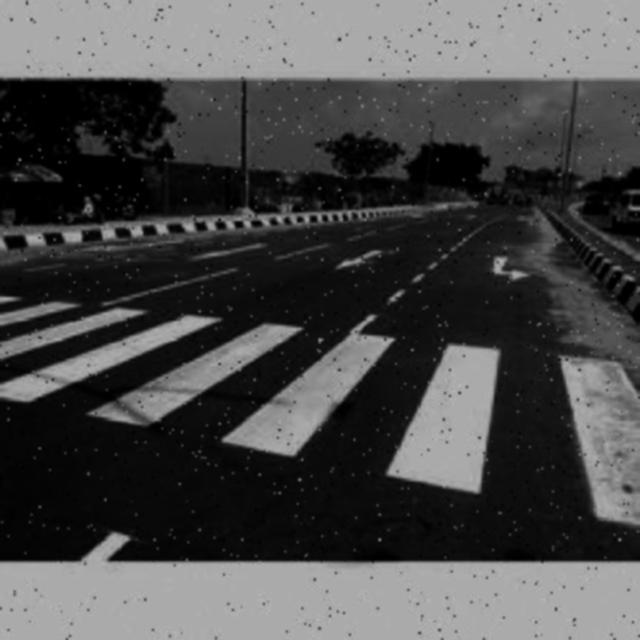crosswalk: (2, 292, 639, 528)
